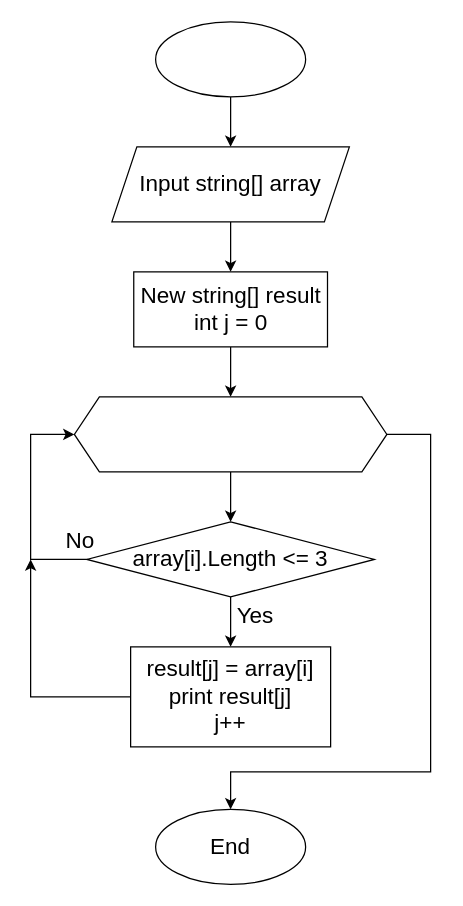
Some shapes in this 463 by 906 pixel diagram are drawn without their labels. Here are the shapes that lost their labels. From the top down, the centre of each, then its label:
At [230,59]: "Start".
At [230,434]: "i = 0; i < array.Length; i++".
